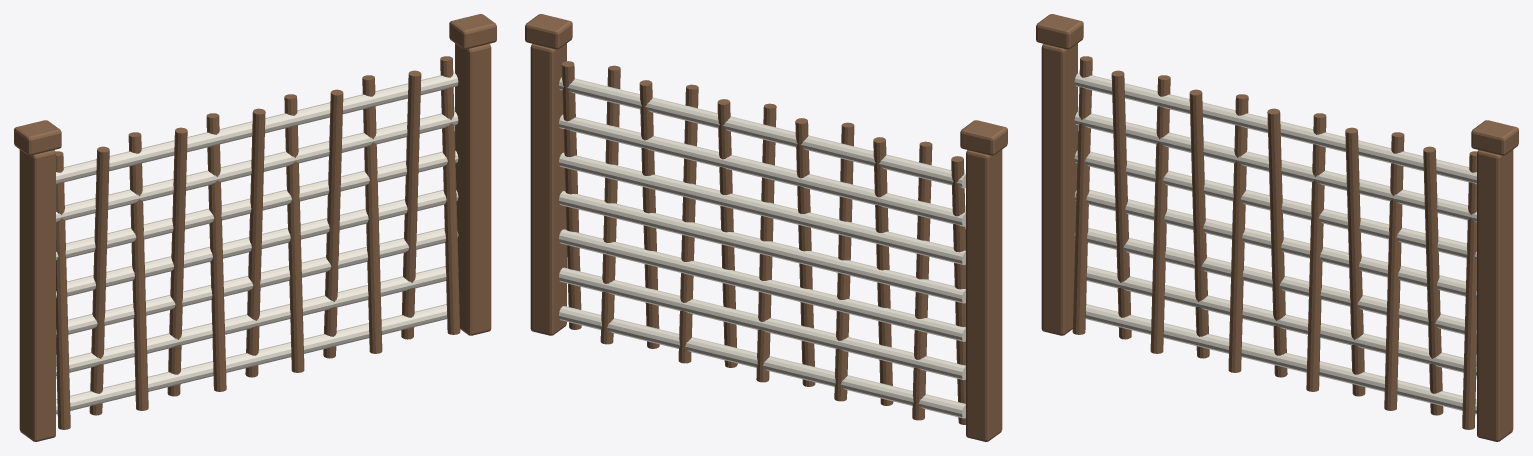
The model's file is fence_07.glb.
3 views of the same model, side by side, from view 1: azimuth 30°, elevation 25°; view 2: azimuth 150°, elevation 25°; view 3: azimuth 330°, elevation 25° (orthographic).
Visible parts, largest first — view 1: Tint, Fence post, Fence post.001, Hurdle upright.006, Hurdle upright.004, Hurdle upright.002, Hurdle upright.008, Hurdle upright.010, Hurdle upright.003, Hurdle upright.005, Hurdle upright.001, Hurdle upright.007 (+4 smaller); view 2: Tint, Fence post, Fence post.001, Hurdle upright.007, Hurdle upright.009, Hurdle upright.005, Hurdle upright.003, Hurdle upright.001, Hurdle upright.002, Hurdle upright.004, Hurdle upright.006, Hurdle upright.008 (+4 smaller); view 3: Tint, Fence post.001, Fence post, Hurdle upright.004, Hurdle upright.006, Hurdle upright.008, Hurdle upright.002, Hurdle upright, Hurdle upright.007, Hurdle upright.005, Hurdle upright.009, Hurdle upright.003 (+4 smaller).
Boxes of the visible parts, bbox=[...] form: Tint: bbox=[56, 72, 458, 414]; Fence post: bbox=[19, 149, 55, 441]; Fence post.001: bbox=[455, 43, 491, 335]; Hurdle upright.006: bbox=[284, 94, 304, 372]; Hurdle upright.004: bbox=[206, 113, 226, 391]; Hurdle upright.002: bbox=[128, 132, 148, 410]; Hurdle upright.008: bbox=[362, 75, 382, 353]; Hurdle upright.010: bbox=[440, 56, 460, 334]; Hurdle upright.003: bbox=[167, 127, 187, 396]; Hurdle upright.005: bbox=[245, 108, 265, 377]; Hurdle upright.001: bbox=[89, 146, 109, 415]; Hurdle upright.007: bbox=[323, 89, 343, 358]; Tint: bbox=[559, 77, 965, 418]; Fence post: bbox=[966, 149, 1002, 441]; Fence post.001: bbox=[530, 43, 566, 335]; Hurdle upright.007: bbox=[678, 84, 698, 363]; Hurdle upright.009: bbox=[600, 65, 620, 344]; Hurdle upright.005: bbox=[756, 103, 776, 382]; Hurdle upright.003: bbox=[834, 122, 854, 401]; Hurdle upright.001: bbox=[912, 141, 932, 420]; Hurdle upright.002: bbox=[873, 137, 893, 405]; Hurdle upright.004: bbox=[795, 118, 815, 386]; Hurdle upright.006: bbox=[717, 99, 737, 367]; Hurdle upright.008: bbox=[639, 80, 659, 348]; Tint: bbox=[1074, 72, 1476, 414]; Fence post.001: bbox=[1477, 149, 1513, 441]; Fence post: bbox=[1041, 43, 1077, 335]; Hurdle upright.004: bbox=[1228, 94, 1248, 372]; Hurdle upright.006: bbox=[1306, 113, 1326, 391]; Hurdle upright.008: bbox=[1384, 132, 1404, 410]; Hurdle upright.002: bbox=[1150, 75, 1170, 353]; Hurdle upright: bbox=[1072, 56, 1092, 334]; Hurdle upright.007: bbox=[1345, 127, 1365, 396]; Hurdle upright.005: bbox=[1267, 108, 1287, 377]; Hurdle upright.009: bbox=[1423, 146, 1443, 415]; Hurdle upright.003: bbox=[1189, 89, 1209, 358].
Bounding box in the file's own units: 2.05 × 1.28 × 0.12.
